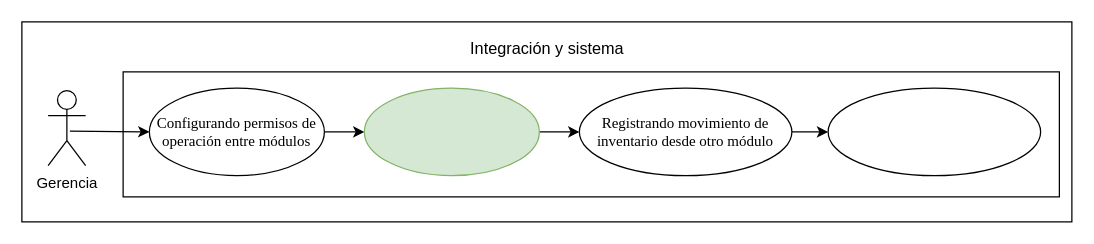
The diagram is 1094 pixels wide and 244 high, and some of its shapes have lost their labels. The shapes that lost their labels are listed below. From the top down, each one's centre as x and y in pixels, then its label:
At point 451,131: "Actualizando el stock de manera instantánea".
At point 934,131: "Consultando stock de inventario desde otro módulo".
